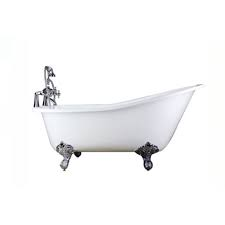bathub: (38, 80, 203, 174)
